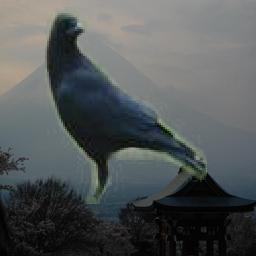Crow: (45, 8, 207, 205)
